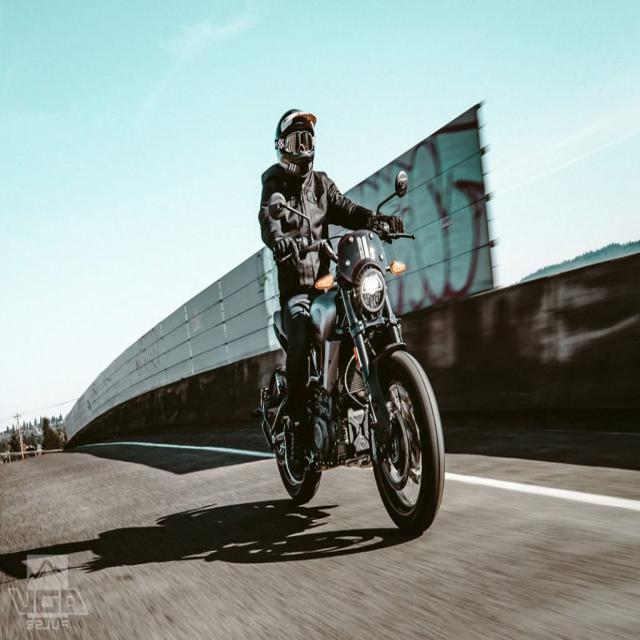motorcycle: (259, 111, 444, 534), (394, 172, 408, 197)
